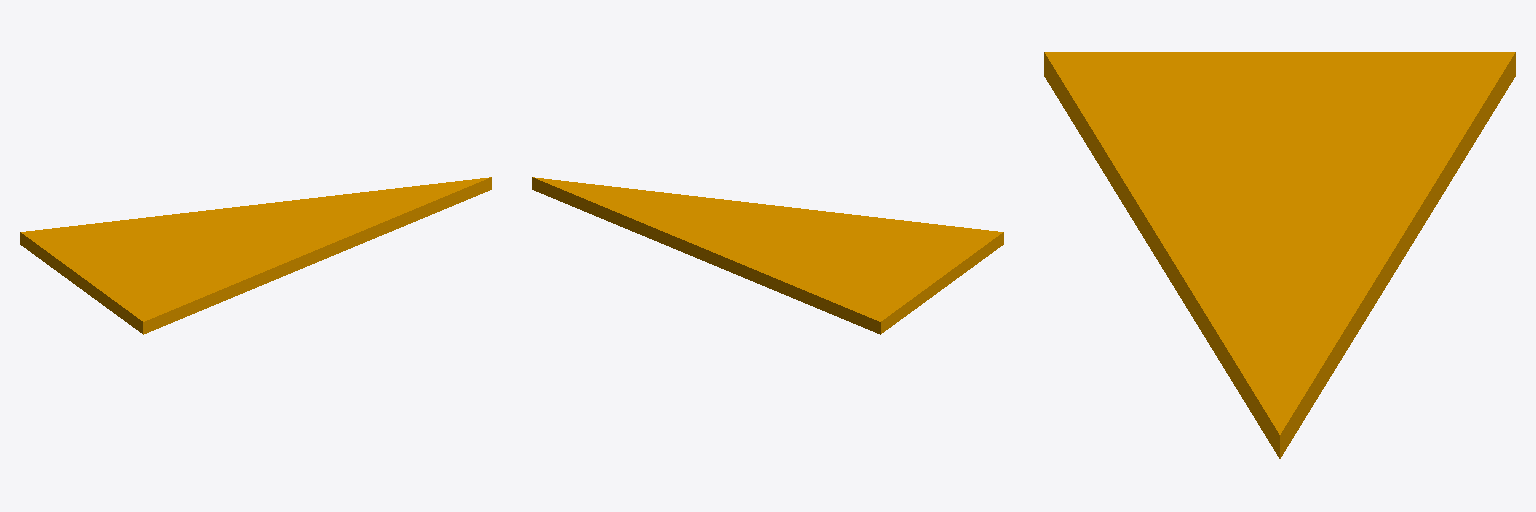
URDF robot description (foot):
<?xml version="1.0"?>
<robot name="foot">

	<!-- * * * Link Definitions * * * -->

 	<link name="base_link">
        <inertial>
            <origin rpy="0 0 0" xyz="0 0 0"/>
            <mass value="0"/>
            <inertia ixx="0" ixy="0" ixz="0" iyy="0" iyz="0" izz="0"/>
        </inertial>
		<visual>
		    <origin xyz="0 0 0.0" rpy="0 0 0"/>
            <geometry>
                <mesh filename="triangle.stl" scale="2 2 2"/>
            </geometry>
			<!-- <geometry>
				<box size="1.5 0.5 0.02"/>
			</geometry> -->
		</visual>
    </link>
  
</robot>

--- Facts derived from the render (not from the file) ---
3 views of the same robot in one strip: view 1: azimuth 30°, elevation 25°; view 2: azimuth 150°, elevation 25°; view 3: azimuth 270°, elevation 25° (orthographic).
Robot: foot — 1 links, 0 joints (none); root link base_link; default pose: every joint at zero.
Visible links, largest first — view 1: base_link; view 2: base_link; view 3: base_link.
Link boxes in pixels (x1,y1,x2,y2): base_link: (20, 177, 491, 334); base_link: (532, 177, 1003, 334); base_link: (1044, 52, 1515, 458).
Bounding box of the posed robot: 1.35 × 0.7044 × 0.04 m (x, y, z).
1 mesh visuals loaded from 1 distinct referenced files (1 binary STL).
